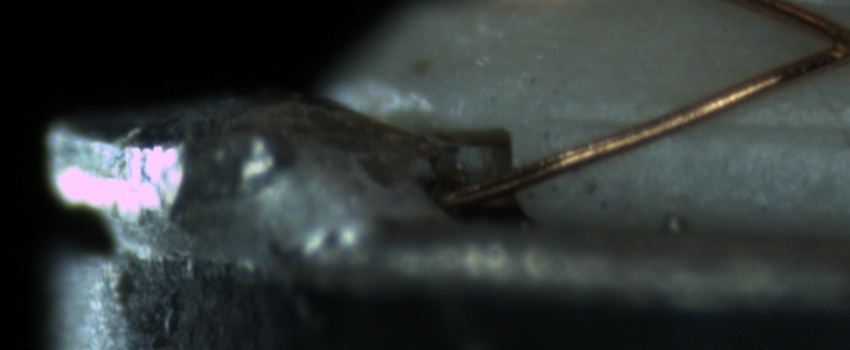CL: (798, 12, 850, 73)
DL: (543, 92, 850, 154)
